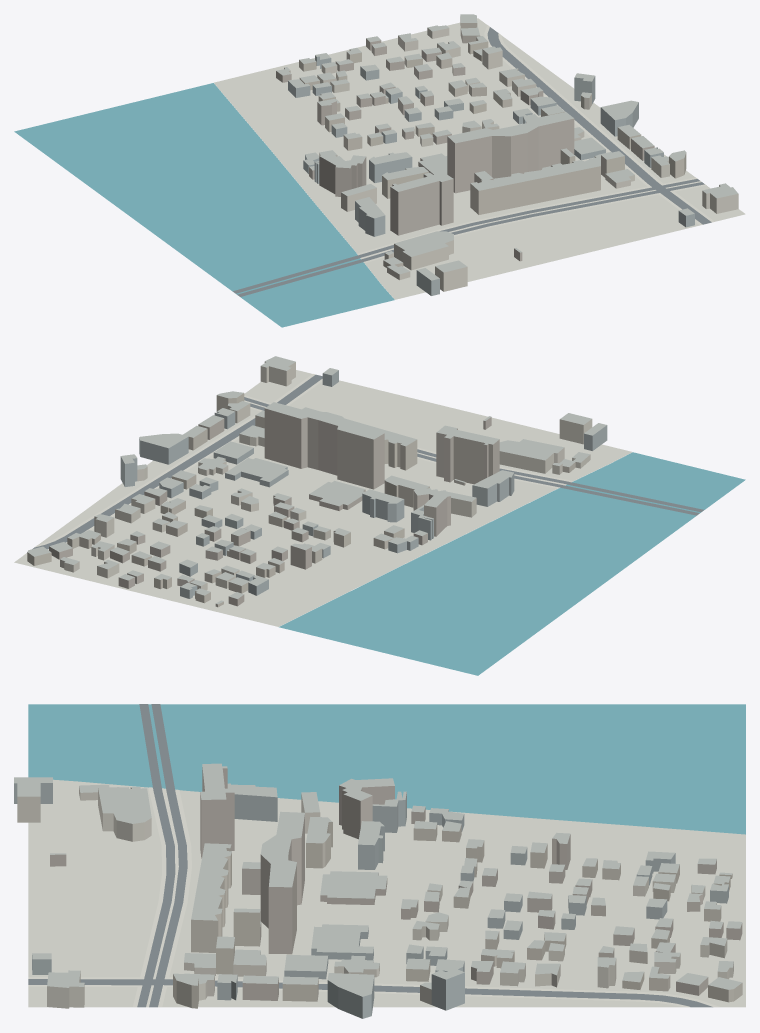
The picture shows the model from 3 angles, top to bottom: view 1: azimuth 30°, elevation 25°; view 2: azimuth 150°, elevation 25°; view 3: azimuth 270°, elevation 25°; orthographic projection. The views are drawn at different scales.
Parts seen in each view (by area): view 1: city; view 2: city; view 3: city.
Boxes of the visible parts, x1,y1,x2,y2 form: city: (14, 14, 745, 327); city: (14, 356, 745, 675); city: (14, 704, 745, 1018).
Bounding box in the file's own units: 519 × 51.68 × 510.
